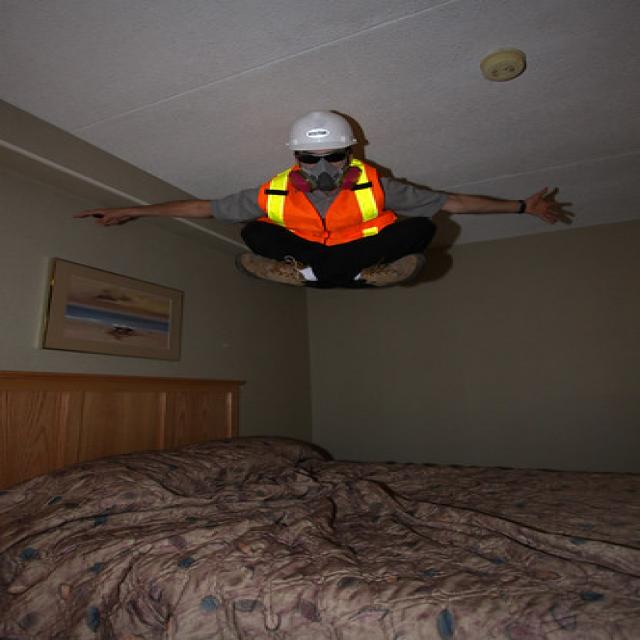Reflective-Jacket: (237, 160, 413, 250)
Safety-Helmet: (276, 104, 364, 158)
